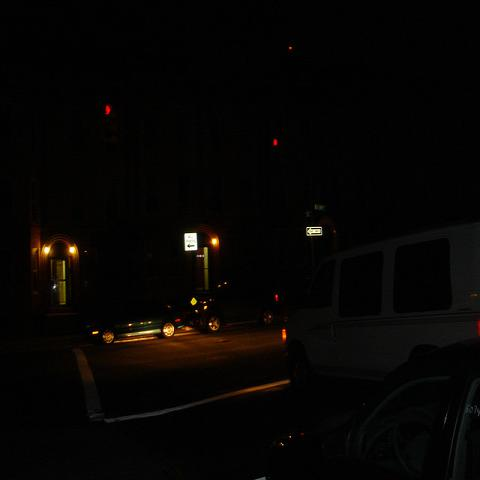car: (191, 281, 279, 336), (86, 301, 189, 345)
